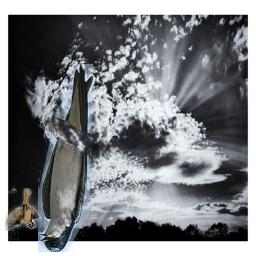Sparrow: (6, 189, 43, 232)
Swallow: (39, 64, 94, 252)
